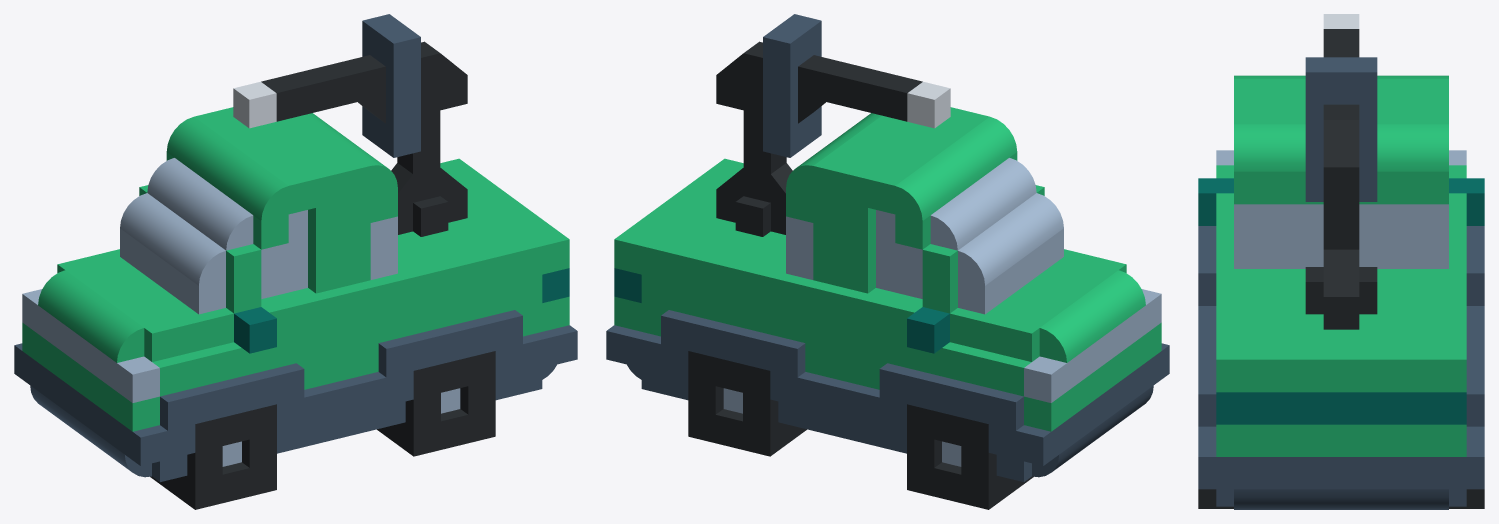
File: truck.fbx
3 views of the same model, side by side, from view 1: azimuth 30°, elevation 25°; view 2: azimuth 150°, elevation 25°; view 3: azimuth 270°, elevation 25° (orthographic). The views are drawn at different scales.
Visible parts, largest first — view 1: generated; view 2: generated; view 3: generated.
Part boxes in pixels (x1,y1,x2,y2): generated: [14, 14, 577, 509]; generated: [606, 14, 1169, 509]; generated: [1198, 14, 1484, 509].
Size of the model in its own units: 160 by 130 by 80.
